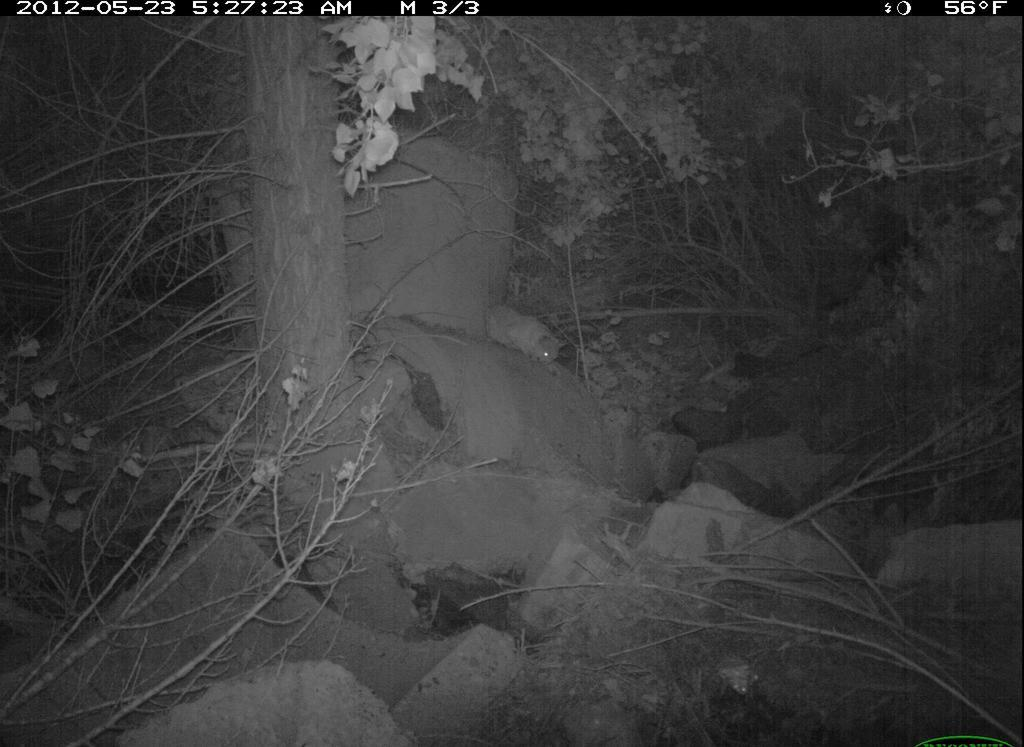bobcat: (483, 300, 569, 370)
